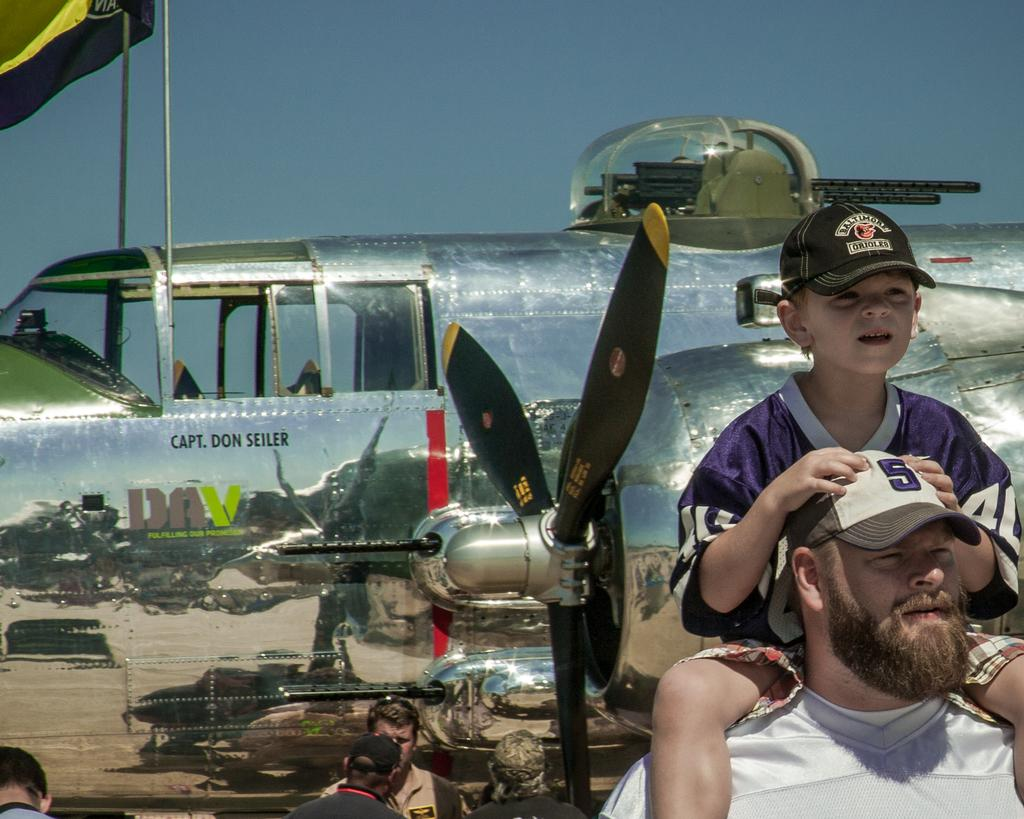Hat: (785, 448, 979, 566), (780, 201, 940, 298)
